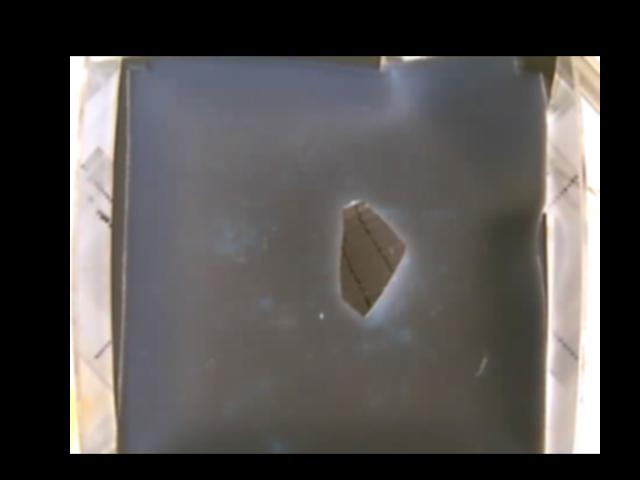China: (337, 198, 407, 317)
